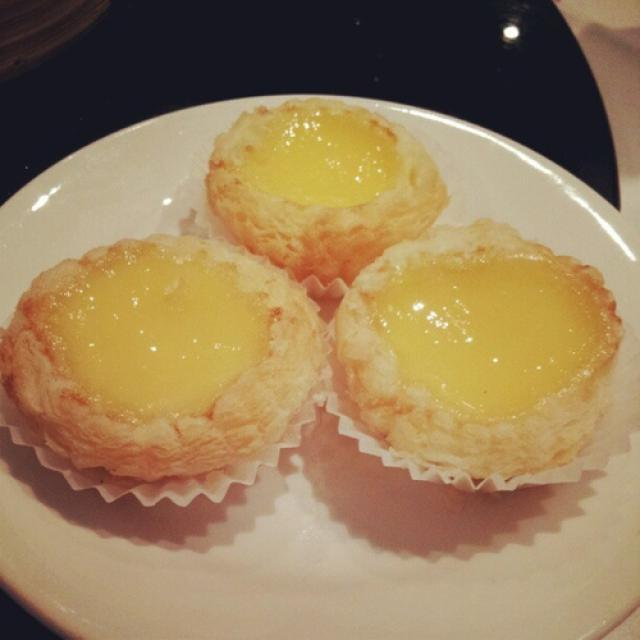炸货点心: (4, 90, 631, 634)
蛋糕甜品: (4, 90, 631, 634)
